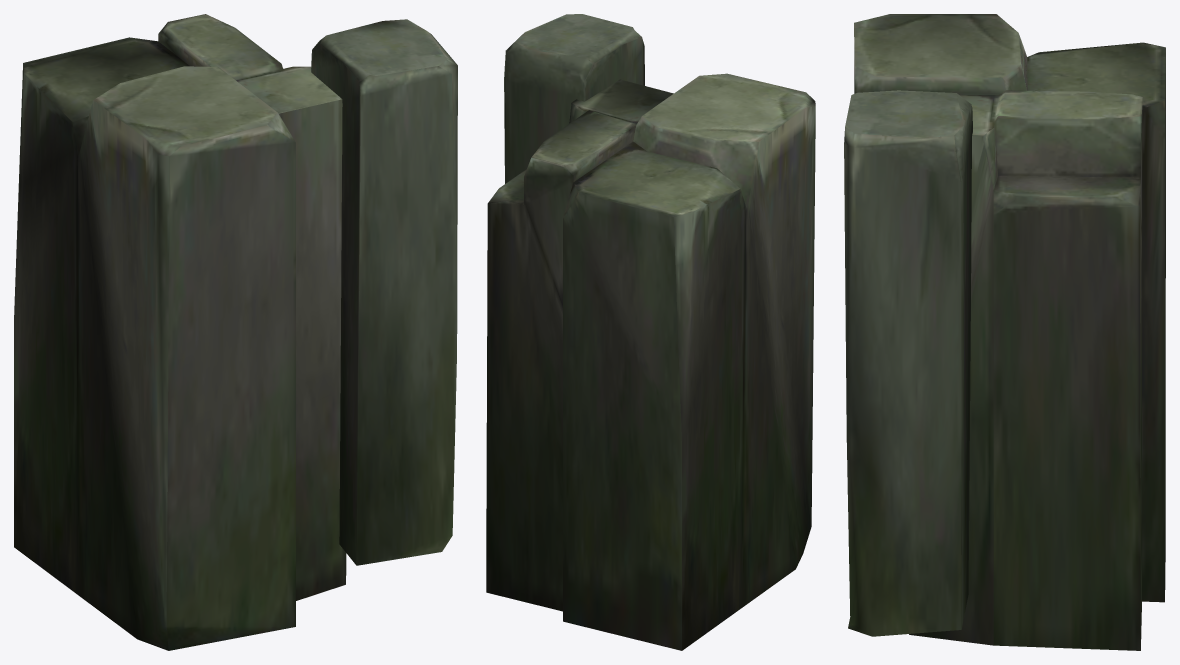
The model's file is rock_C1.fbx.
The picture shows the model from 3 angles, left to right: view 1: azimuth 30°, elevation 25°; view 2: azimuth 150°, elevation 25°; view 3: azimuth 270°, elevation 25°; orthographic projection. The views are drawn at different scales.
Parts seen in each view (by area): view 1: rock_C1; view 2: rock_C1; view 3: rock_C1.
Boxes of the visible parts, x1,y1,x2,y2 form: rock_C1: (14,14,457,650); rock_C1: (486,14,815,650); rock_C1: (844,14,1165,650).
Size of the model in its own units: 3.35 by 5.64 by 3.01.
